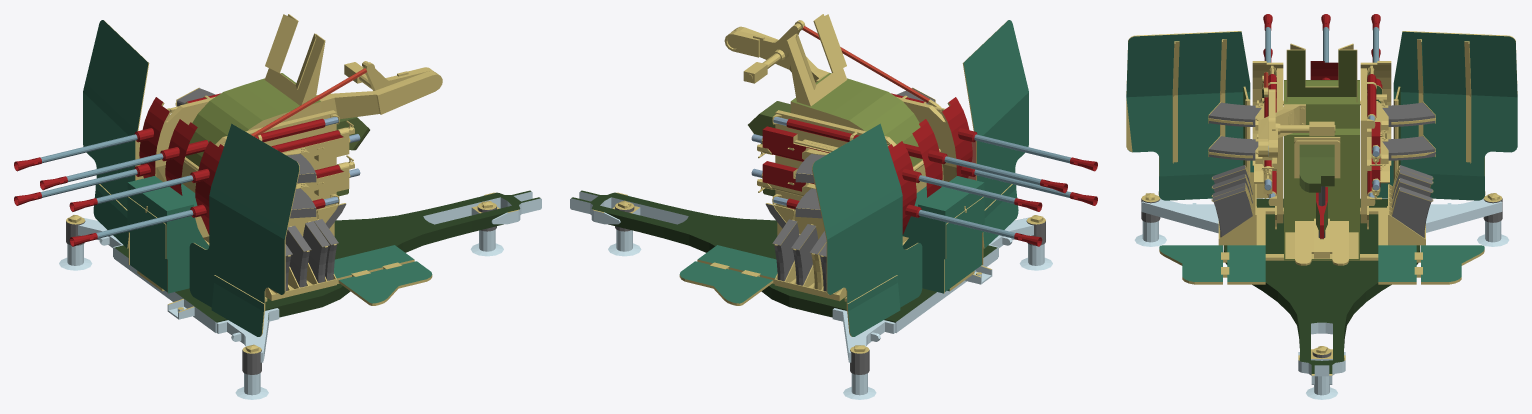
Rendered from Flack38-2.fbx.
The picture shows the model from 3 angles, left to right: view 1: azimuth 30°, elevation 25°; view 2: azimuth 150°, elevation 25°; view 3: azimuth 270°, elevation 25°; orthographic projection. The views are drawn at different scales.
Parts seen in each view (by area): view 1: pasted__pasted__pasted__base, attack; view 2: pasted__pasted__pasted__base, attack; view 3: pasted__pasted__pasted__base, attack.
Boxes of the visible parts, left/top/right/bottom form: pasted__pasted__pasted__base: left=59, top=14, right=541, bottom=399; attack: left=14, top=128, right=209, bottom=246; pasted__pasted__pasted__base: left=570, top=14, right=1052, bottom=399; attack: left=902, top=128, right=1097, bottom=246; pasted__pasted__pasted__base: left=1126, top=31, right=1517, bottom=399; attack: left=1263, top=14, right=1381, bottom=82.
Bounding box in the file's own units: 482 × 252 × 342.
